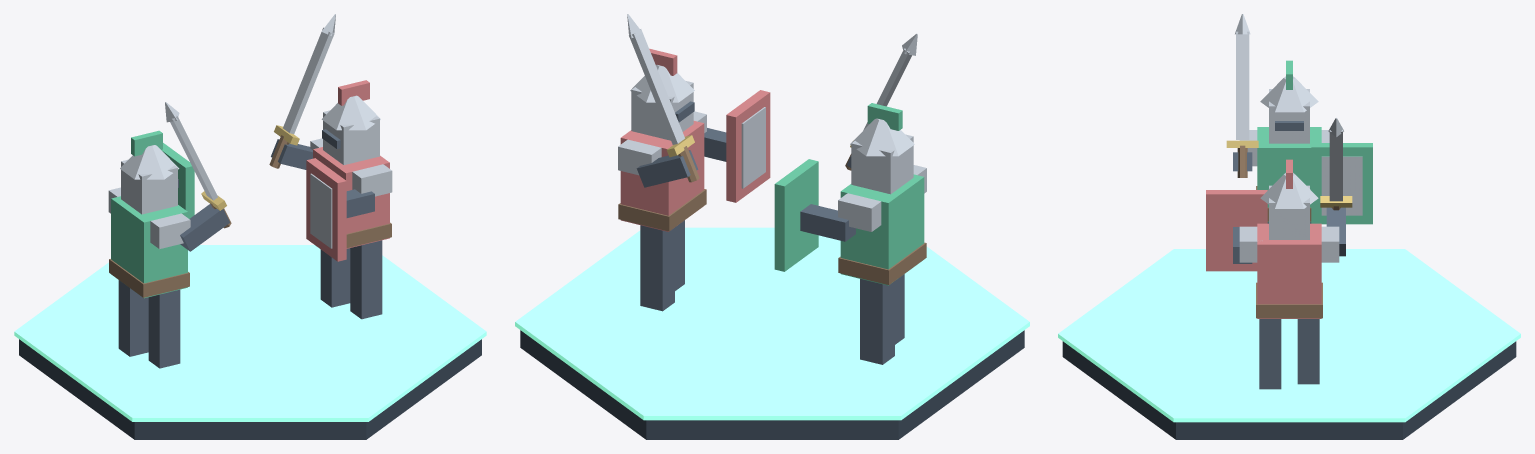
The model's file is duello.glb.
3 views of the same model, side by side, from view 1: azimuth 30°, elevation 25°; view 2: azimuth 150°, elevation 25°; view 3: azimuth 270°, elevation 25° (orthographic). The views are drawn at different scales.
Parts seen in each view (by area): view 1: BaseRing, BaseHex, Verde_Torso, Rosso_GambaSX, Verde_GambaDX, Rosso_Scudo, Verde_GambaSX, Verde_Testa, Rosso_Torso, Rosso_Testa, Rosso_GambaDX, Rosso_Lama (+14 smaller); view 2: BaseRing, BaseHex, Verde_Torso, Verde_Scudo, Rosso_Torso, Rosso_GambaDX, Verde_GambaSX, Rosso_Scudo, Verde_Testa, Rosso_Lama, Rosso_ScudoBordo, Rosso_Testa (+13 smaller); view 3: BaseRing, BaseHex, Rosso_Torso, Rosso_Scudo, Verde_Torso, Verde_Scudo, Rosso_GambaSX, Rosso_GambaDX, Verde_Lama, Verde_ScudoBordo, Rosso_Testa, Verde_ElmoTop (+7 smaller).
Boxes of the visible parts, <box> form: BaseRing: <box>14,245,486,421</box>; BaseHex: <box>19,339,481,439</box>; Verde_Torso: <box>111,196,187,298</box>; Rosso_GambaSX: <box>350,240,382,319</box>; Verde_GambaDX: <box>148,289,180,368</box>; Rosso_Scudo: <box>306,158,346,261</box>; Verde_GambaSX: <box>118,280,148,356</box>; Verde_Testa: <box>121,159,177,214</box>; Rosso_Torso: <box>313,147,389,248</box>; Rosso_Testa: <box>323,110,379,164</box>; Rosso_GambaDX: <box>320,248,350,307</box>; Rosso_Lama: <box>283,27,334,133</box>; BaseRing: <box>515,227,1029,420</box>; BaseHex: <box>520,330,1024,439</box>; Verde_Torso: <box>840,174,924,285</box>; Verde_Scudo: <box>774,159,818,271</box>; Rosso_Torso: <box>620,121,704,231</box>; Rosso_GambaDX: <box>640,225,674,311</box>; Verde_GambaSX: <box>860,279,894,364</box>; Rosso_Scudo: <box>726,90,770,202</box>; Verde_Testa: <box>851,134,913,194</box>; Rosso_Lama: <box>629,29,684,144</box>; Rosso_ScudoBordo: <box>741,107,765,188</box>; Rosso_Testa: <box>631,81,693,140</box>; BaseRing: <box>1058,249,1520,422</box>; BaseHex: <box>1062,341,1516,439</box>; Rosso_Torso: <box>1257,223,1321,318</box>; Rosso_Scudo: <box>1206,190,1267,271</box>; Verde_Torso: <box>1257,127,1321,222</box>; Verde_Scudo: <box>1311,143,1372,224</box>; Rosso_GambaSX: <box>1259,319,1281,389</box>; Rosso_GambaDX: <box>1297,319,1319,384</box>; Verde_Lama: <box>1236,31,1249,139</box>; Verde_ScudoBordo: <box>1321,156,1362,215</box>; Rosso_Testa: <box>1269,185,1309,239</box>; Verde_ElmoTop: <box>1260,76,1318,112</box>.
Size of the model in its own units: 2.74 by 2.19 by 3.16.
